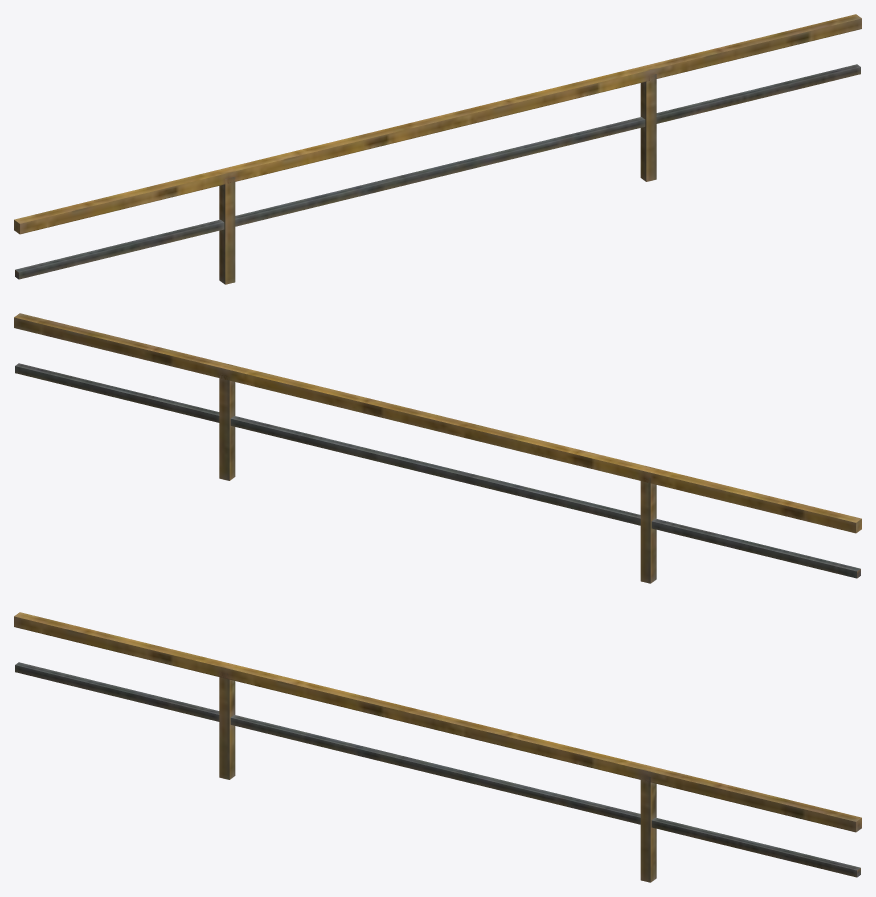
File: rail.glb
The picture shows the model from 3 angles, top to bottom: view 1: azimuth 30°, elevation 25°; view 2: azimuth 150°, elevation 25°; view 3: azimuth 330°, elevation 25°; orthographic projection.
Visible parts, largest first — view 1: te_retaining_rail; view 2: te_retaining_rail; view 3: te_retaining_rail.
Part boxes in pixels (<box>): te_retaining_rail: <box>14,14,861,284</box>; te_retaining_rail: <box>14,313,861,583</box>; te_retaining_rail: <box>14,612,861,882</box>.
Size of the model in its own units: 1 by 0.126 by 0.012.
1 material, 1 textured.
